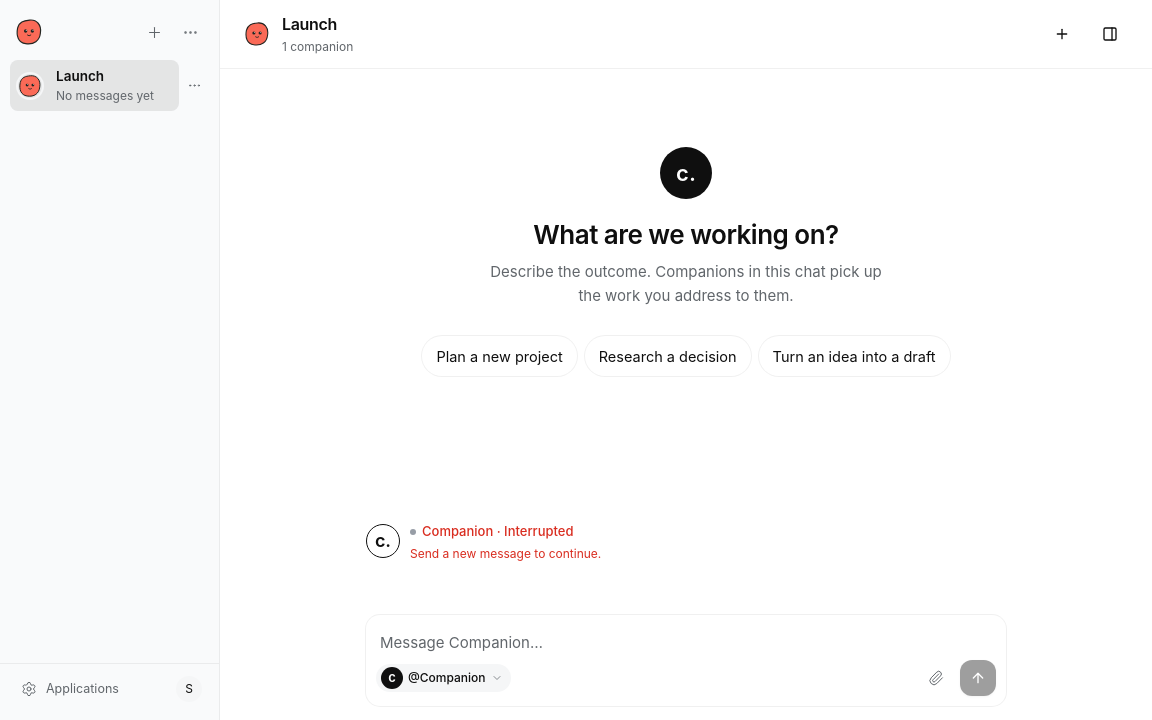
Scenario: shows a failed central turn and keeps companion work available in its own tab
(page scrolled)
Expected: the text "Send a new message to continue." is shown, [410,546,601,560]
Click the button named "Workspace" at coordinates (1110, 34), box [1092,16,1128,52]
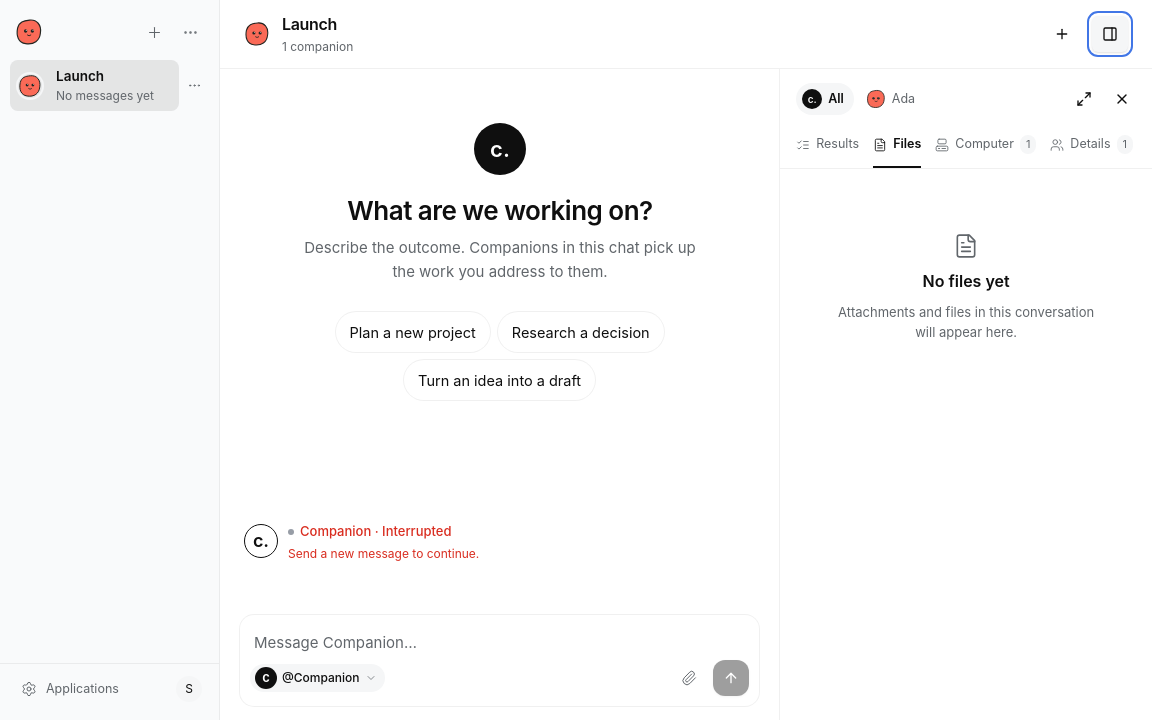
Click the tab "Ada" at coordinates (892, 99), box [860,83,925,115]
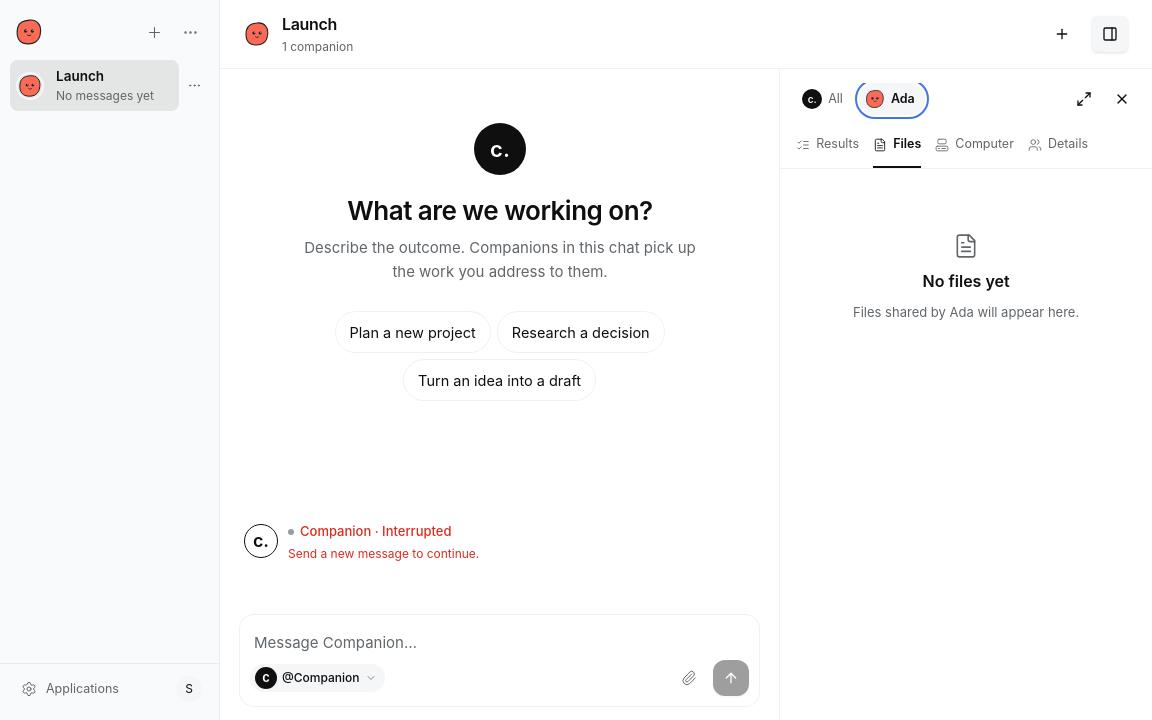
Expected: the text box labelled "Message Companion" is shown, [250,625,749,660]
Result: the element named "Ada workspace" is shown at [779,69,1151,719]
